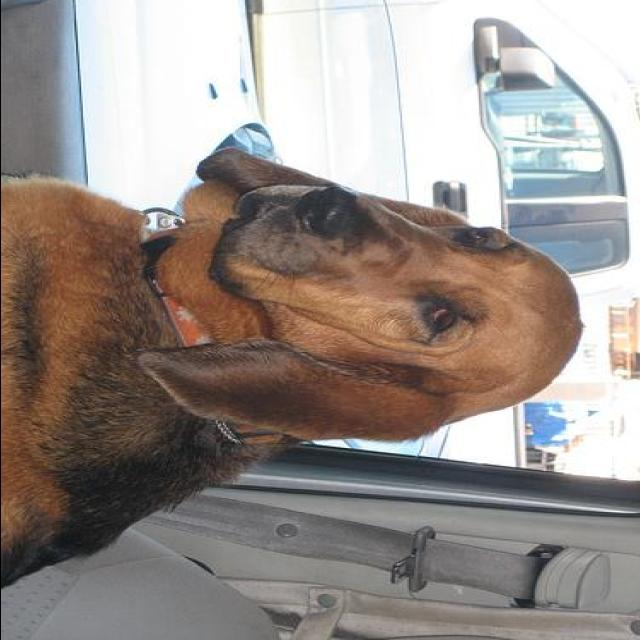bloodhound: (4, 148, 588, 600)
